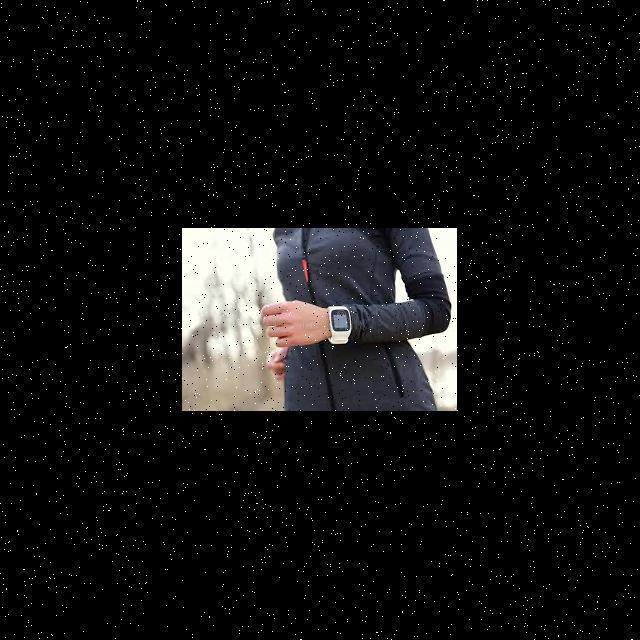watch: (315, 290, 368, 377)
